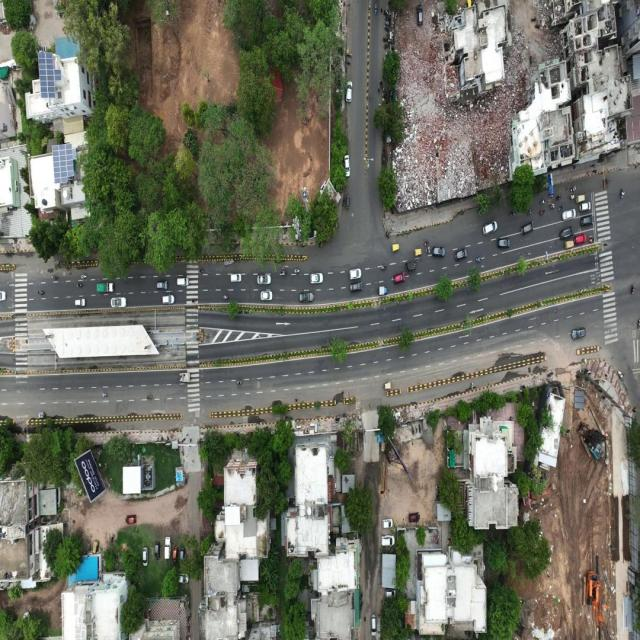3W: (91, 538, 100, 557), (390, 240, 401, 253), (576, 192, 587, 204), (563, 240, 574, 250), (345, 194, 351, 210), (382, 382, 392, 391), (413, 248, 423, 257)
Cars: (482, 218, 498, 236), (519, 220, 536, 236), (110, 295, 128, 309), (570, 326, 586, 341), (369, 612, 378, 638), (416, 3, 425, 28), (558, 226, 574, 240), (454, 246, 468, 262), (580, 213, 595, 227), (343, 154, 352, 177), (349, 280, 364, 293), (161, 292, 176, 305), (560, 208, 576, 220), (431, 245, 447, 257), (298, 291, 314, 303), (176, 572, 190, 585), (392, 272, 406, 285), (310, 272, 324, 285), (256, 274, 271, 286), (346, 78, 353, 103), (382, 534, 395, 547), (124, 513, 138, 525), (164, 536, 171, 560), (578, 201, 592, 213), (498, 238, 512, 250), (348, 268, 362, 280), (260, 290, 274, 302), (381, 518, 394, 530), (384, 588, 397, 600), (177, 276, 190, 288), (154, 540, 161, 562), (156, 280, 170, 291), (142, 546, 149, 567), (172, 546, 179, 566), (408, 512, 420, 523), (574, 234, 586, 245), (230, 272, 242, 283), (74, 298, 87, 308), (179, 546, 186, 564)
LCV: (95, 281, 114, 294), (405, 259, 418, 273), (178, 372, 191, 384), (378, 284, 388, 298)
M2W: (277, 269, 288, 277), (619, 187, 625, 199), (509, 208, 517, 217), (373, 2, 378, 16), (528, 53, 533, 66), (525, 208, 533, 216), (424, 246, 432, 254), (79, 273, 88, 280), (37, 289, 46, 296), (606, 178, 612, 188), (385, 230, 391, 240), (631, 282, 635, 296), (146, 394, 154, 401), (555, 194, 562, 202), (539, 208, 546, 216), (293, 267, 300, 275), (382, 36, 390, 43), (385, 7, 392, 15), (75, 282, 84, 288), (382, 86, 388, 95), (519, 384, 526, 391), (569, 186, 576, 193), (557, 205, 564, 212), (380, 264, 387, 271), (198, 268, 205, 275), (52, 274, 59, 281), (383, 20, 390, 27), (534, 22, 541, 29), (530, 16, 537, 23), (235, 380, 243, 386), (101, 392, 109, 398), (589, 236, 595, 244), (422, 239, 430, 245), (190, 297, 198, 303), (345, 52, 353, 58), (346, 58, 352, 66), (381, 9, 386, 18), (411, 424, 414, 438), (569, 194, 575, 201), (540, 199, 546, 206), (577, 368, 585, 373), (550, 202, 555, 210), (379, 78, 383, 88), (418, 422, 421, 435), (476, 256, 482, 262), (223, 294, 229, 300), (382, 93, 388, 99), (384, 43, 389, 50), (415, 424, 418, 434), (585, 367, 589, 374)
